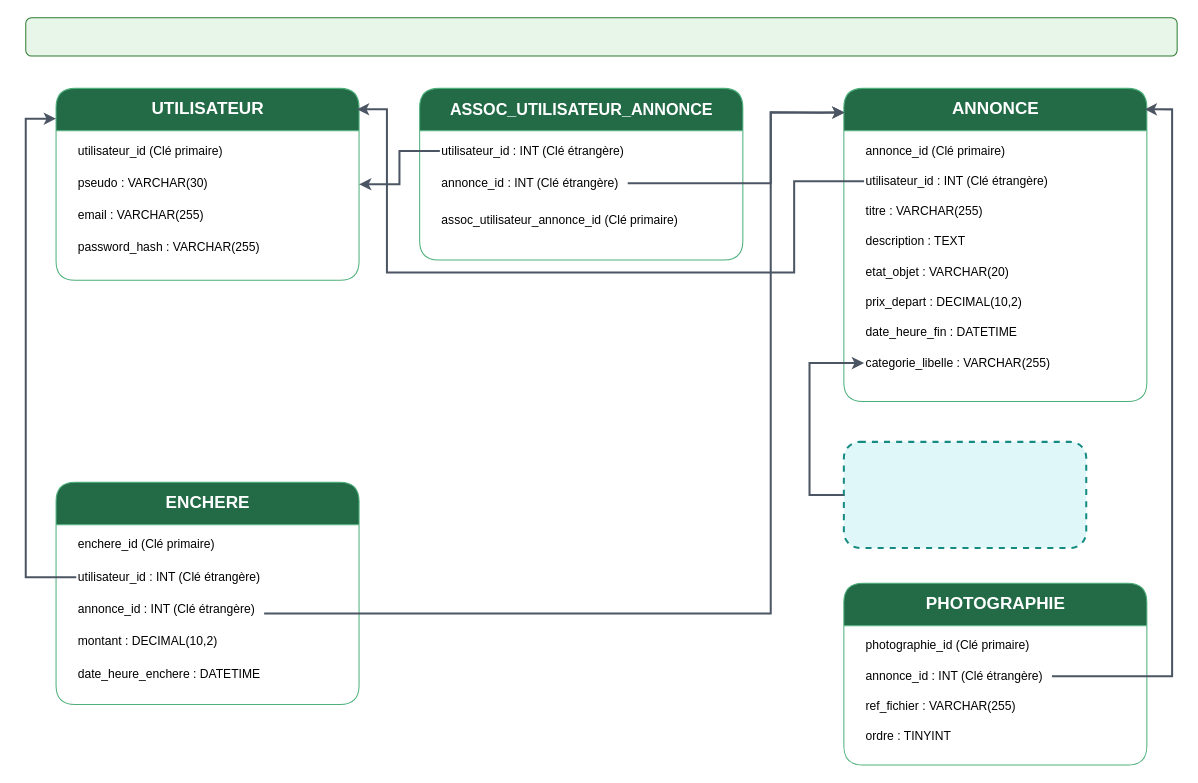
Image size: 1198x783. Some labels were removed from this diagram. The centre of each missing label's shape, as x and y in pixels:
"API CATÉGORIES Libellé de la catégorie" belongs at [964,494].
"MPD — QUIDITMIEUX" belongs at [601,36].
